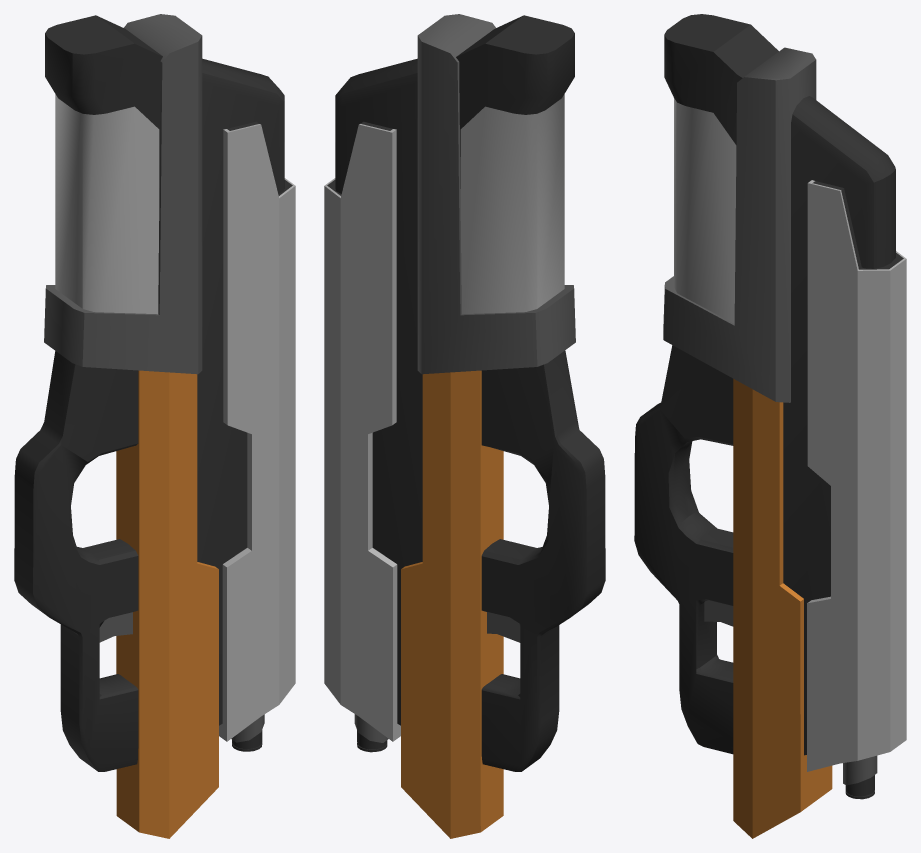
The picture shows the model from 3 angles, left to right: view 1: azimuth 30°, elevation 25°; view 2: azimuth 150°, elevation 25°; view 3: azimuth 330°, elevation 25°; orthographic projection. The views are drawn at different scales.
Parts seen in each view (by area): view 1: WeaponMesh_qg-ar-5_AR_5; view 2: WeaponMesh_qg-ar-5_AR_5; view 3: WeaponMesh_qg-ar-5_AR_5.
Boxes of the visible parts, x1,y1,x2,y2 form: WeaponMesh_qg-ar-5_AR_5: (14, 14, 295, 838); WeaponMesh_qg-ar-5_AR_5: (324, 14, 605, 838); WeaponMesh_qg-ar-5_AR_5: (634, 14, 906, 838).
Bounding box in the file's own units: 0.4274 × 1.25 × 0.1175.
